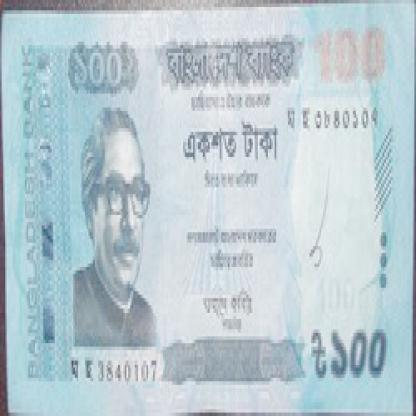one hundred taka: (311, 21, 396, 90), (326, 315, 391, 385), (63, 42, 130, 97)
